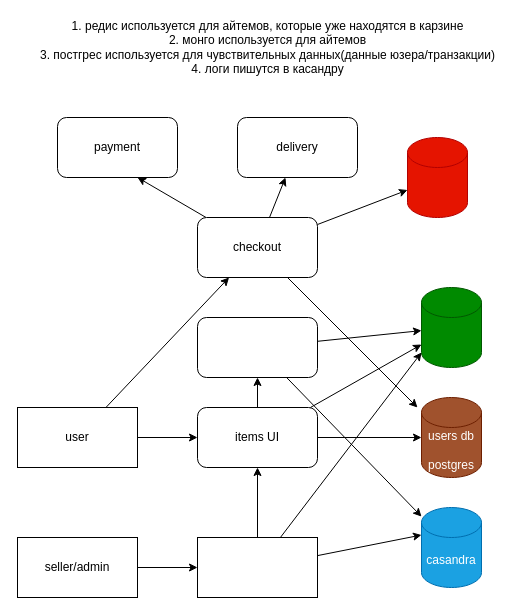
Some shapes in this 525 by 615 pixel diagram are drawn without their labels. Each missing label, with the box of its shape:
items db mongo: (420, 286, 482, 368)
items for checkout redis: (406, 136, 468, 218)
items search server: (196, 316, 318, 378)
managment server: (196, 536, 318, 598)
